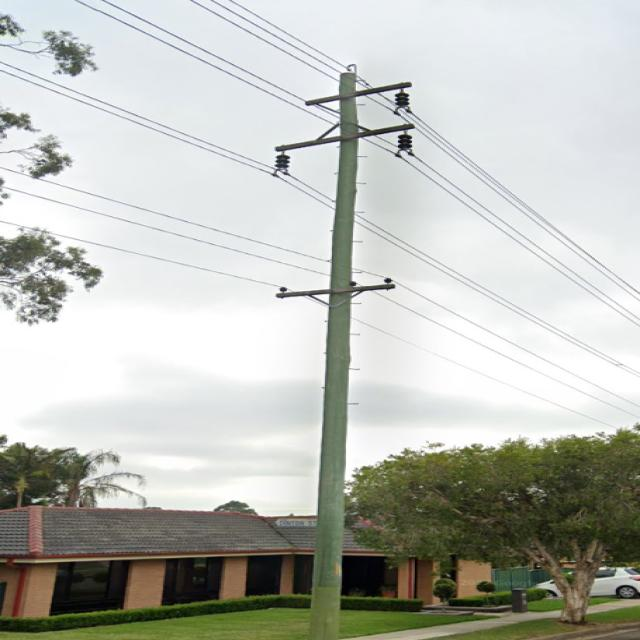HV-transmission: (270, 63, 416, 177)
crossarm: (273, 123, 415, 153), (304, 80, 412, 106), (271, 283, 394, 299)
timber-pole: (308, 72, 357, 633)
